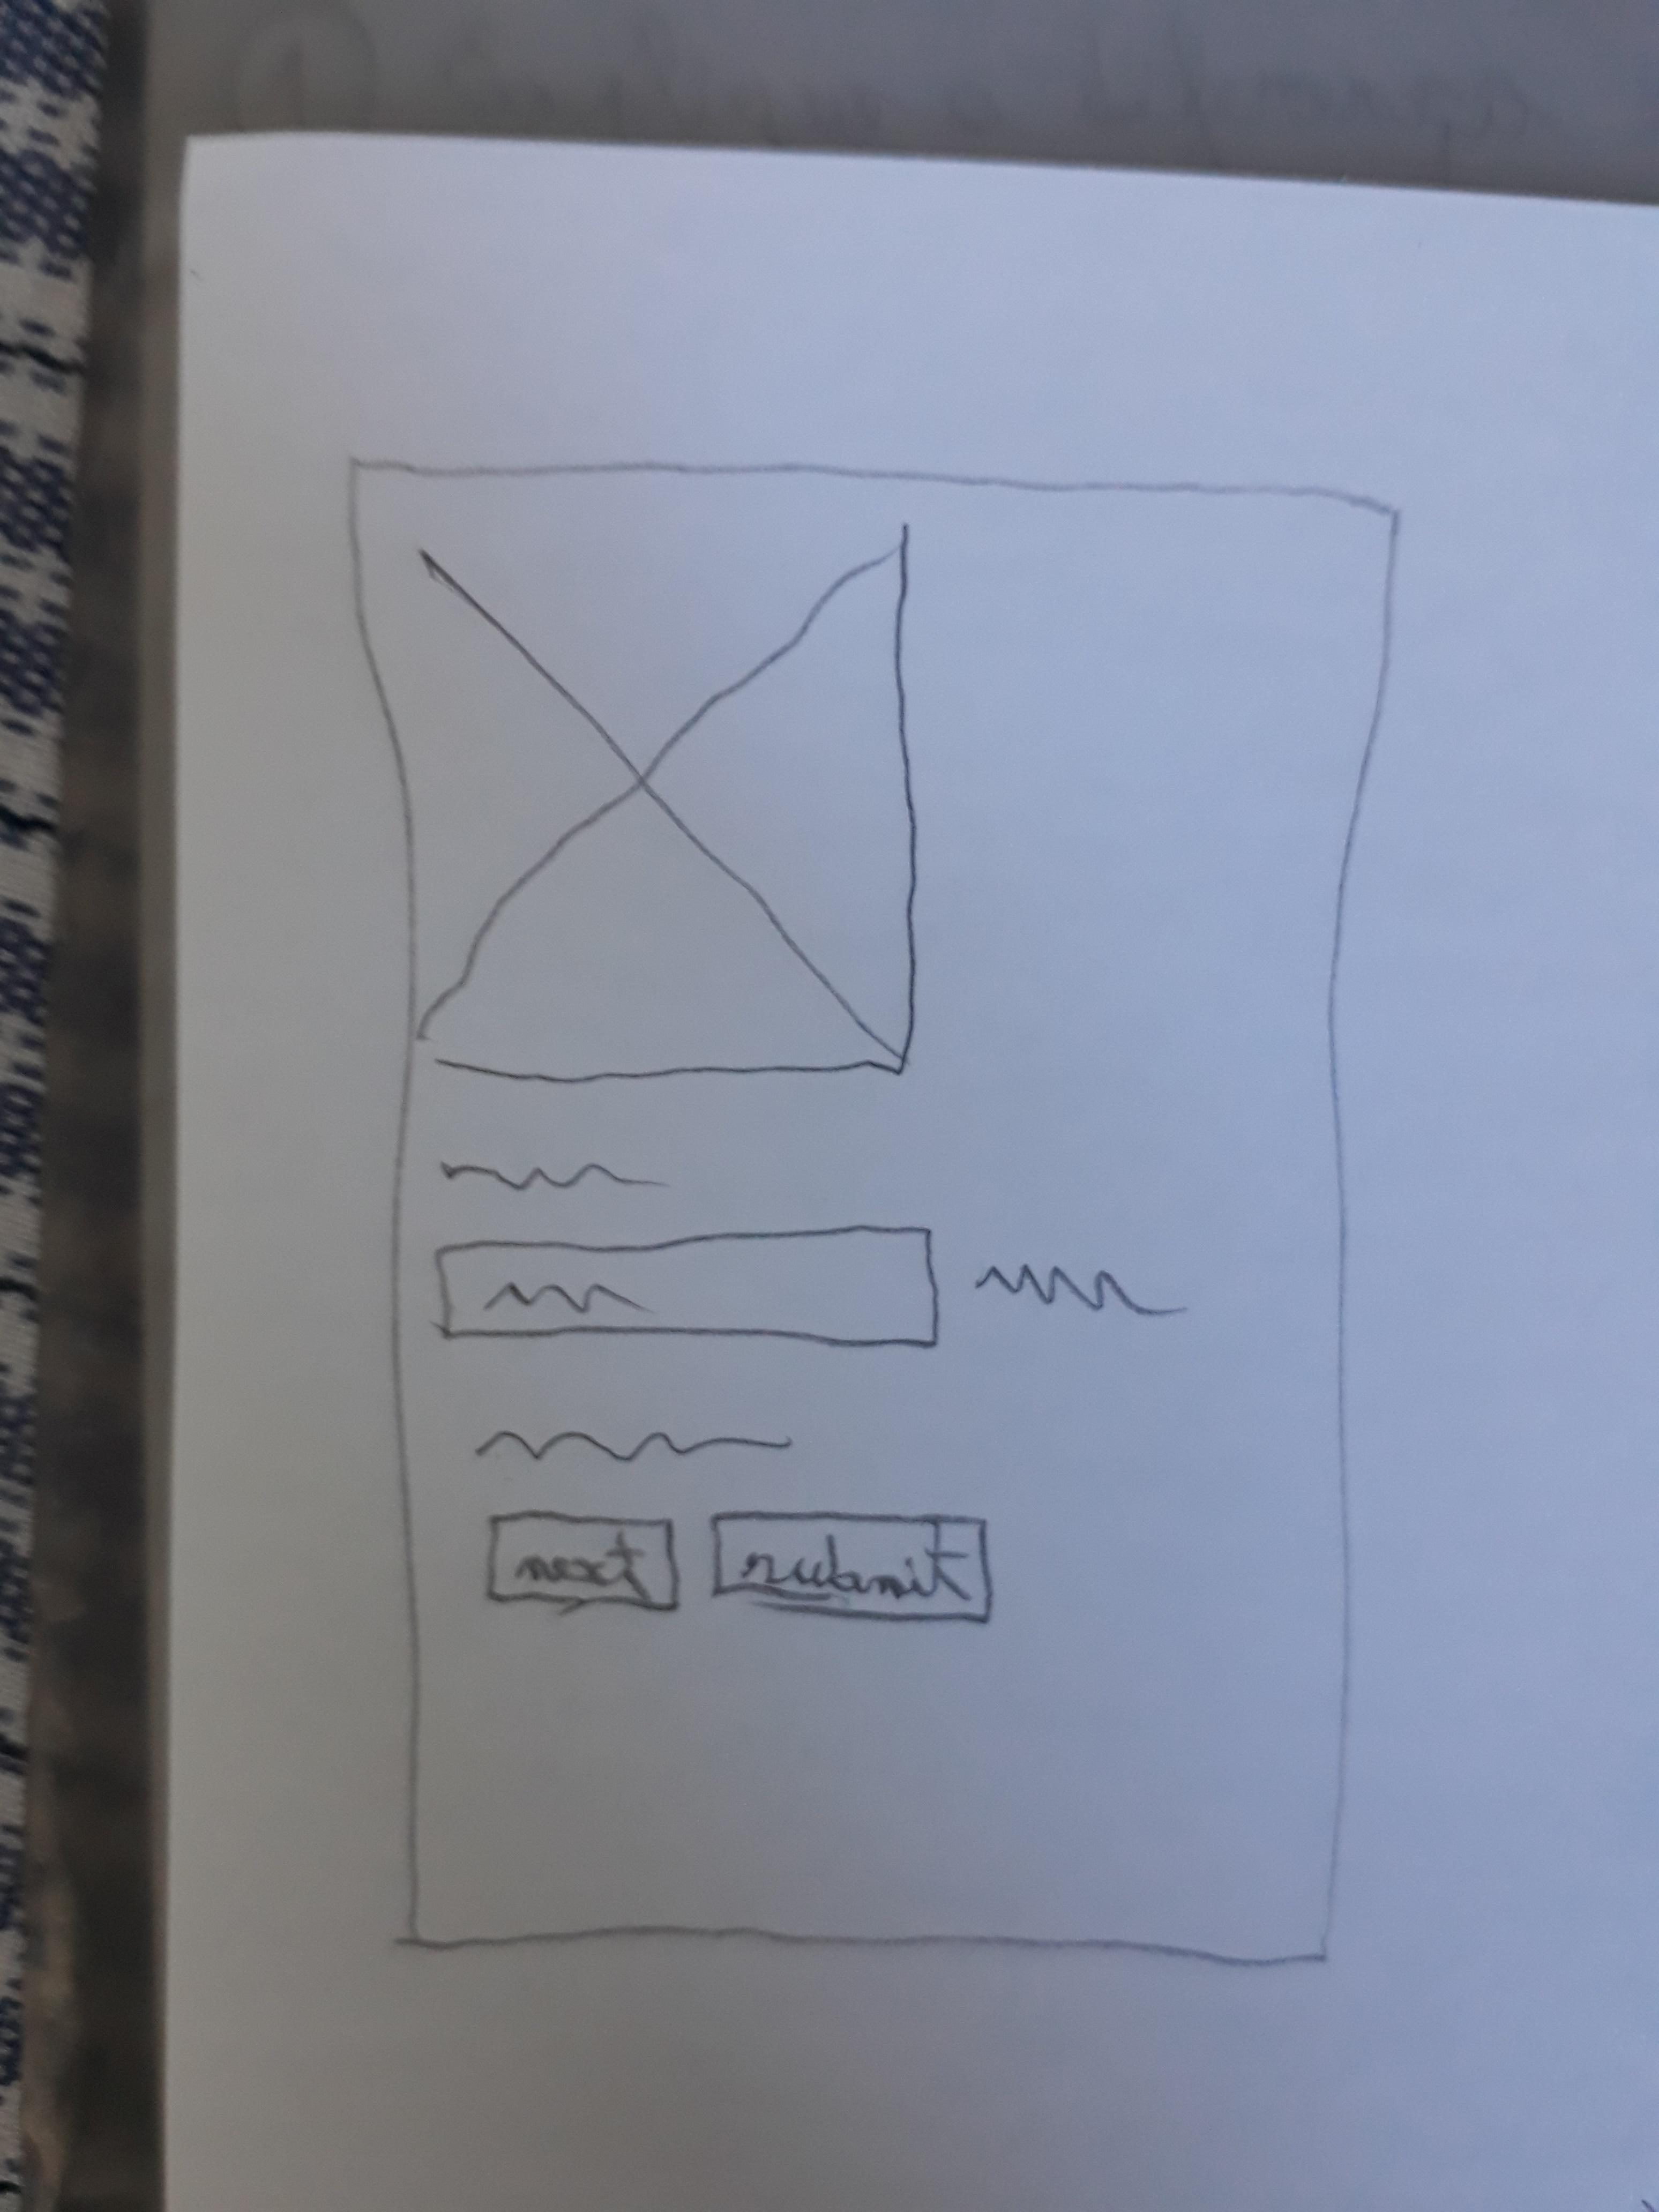Button: (709, 1510, 992, 1620), (490, 1510, 680, 1611)
Image: (361, 467, 917, 1082)
Label: (974, 1263, 1187, 1315), (476, 1428, 791, 1463), (439, 1151, 667, 1191)
Screen: (355, 460, 1398, 1966)
TextBox: (436, 1223, 938, 1348)
